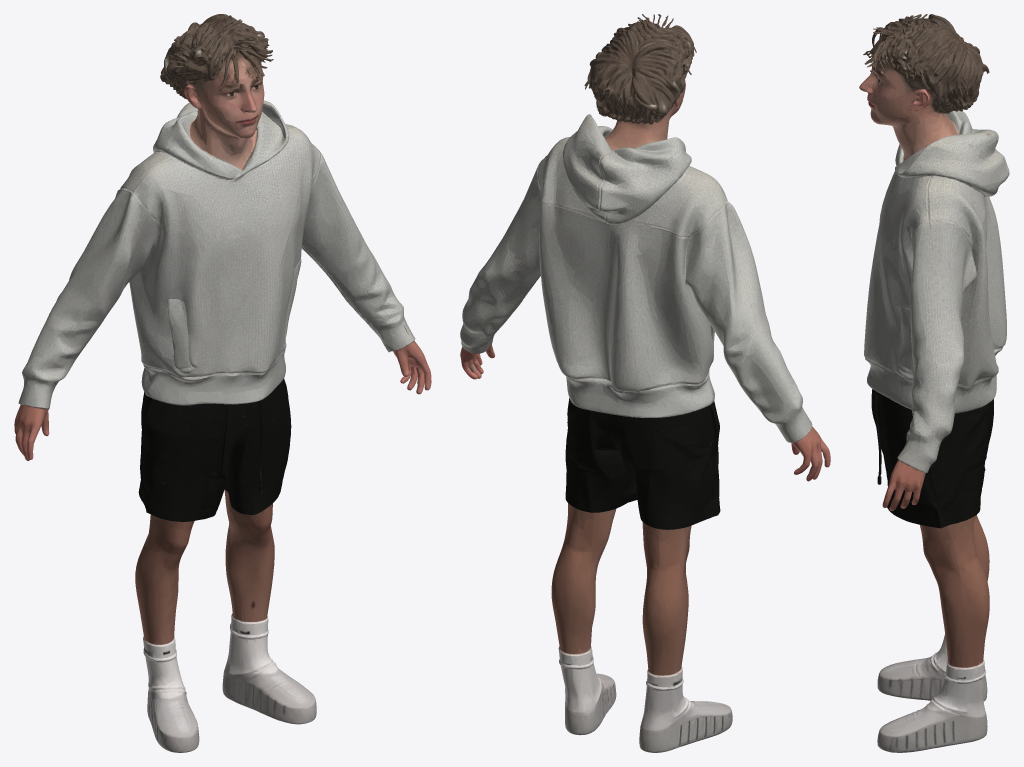
Rendered from eli.glb.
3 views of the same model, side by side, from view 1: azimuth 30°, elevation 25°; view 2: azimuth 150°, elevation 25°; view 3: azimuth 270°, elevation 25° (orthographic).
Visible parts, largest first — view 1: output_unwrapped; view 2: output_unwrapped; view 3: output_unwrapped.
Boxes of the visible parts, box(x1,y1,x2,y2) form: output_unwrapped: box(14, 14, 431, 752); output_unwrapped: box(460, 14, 830, 752); output_unwrapped: box(859, 14, 1009, 752).
Bounding box in the file's own units: 1.07 × 1.9 × 0.3695.
1 material, 1 textured.
